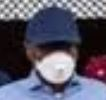with_facemask: (39, 51, 76, 82)
